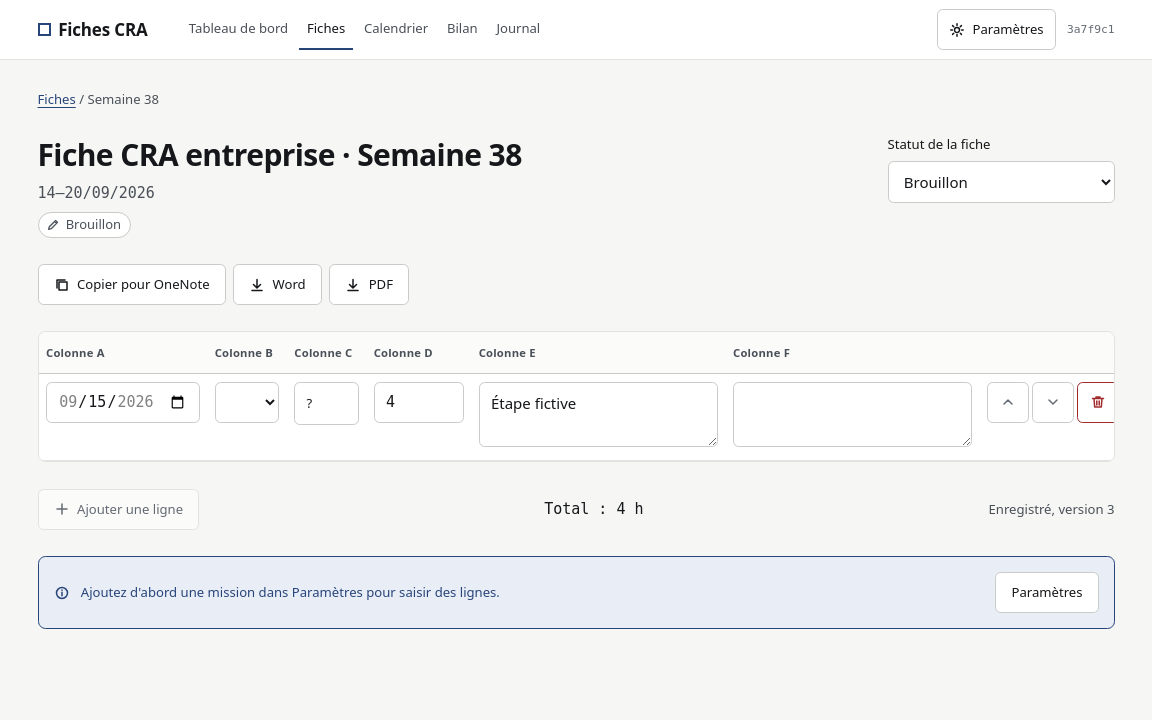
it: Éditeur de fiche › un conflit 409 propose de recharger la fiche
Replace the text in the text box named "Étapes de la ligne 1" with "Autre texte" at (598, 415), box [479,382,718,448]
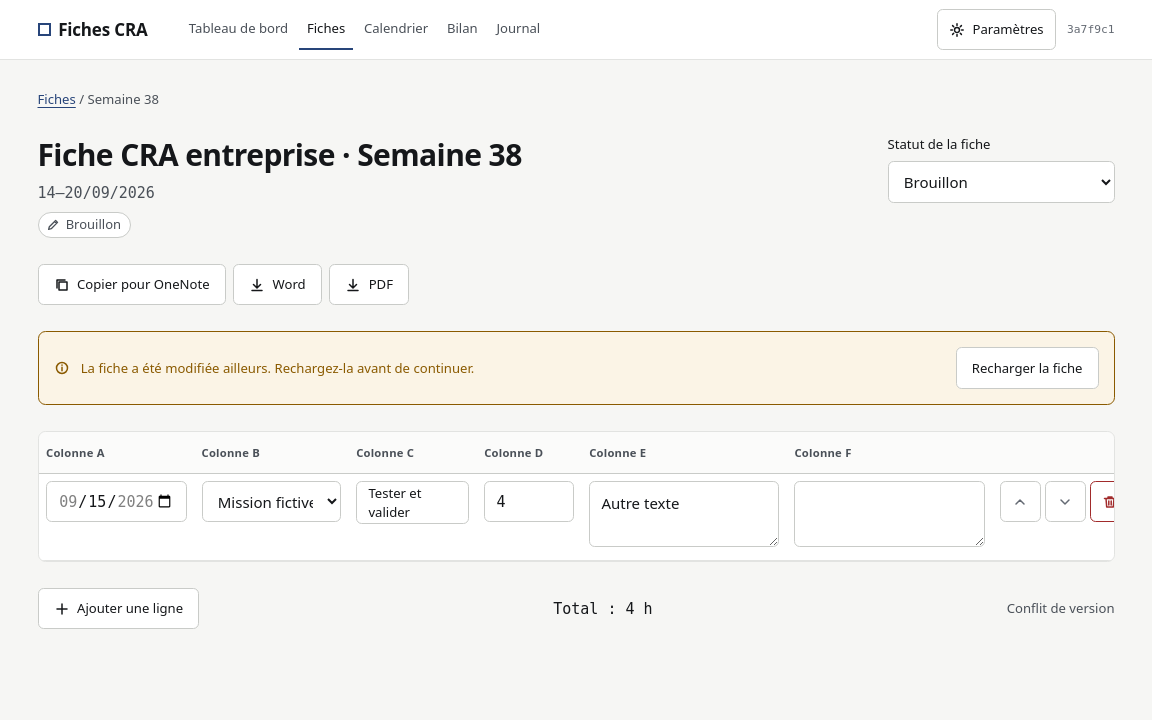
Expected: the button "Recharger la fiche" is shown, [956,348,1098,389]
